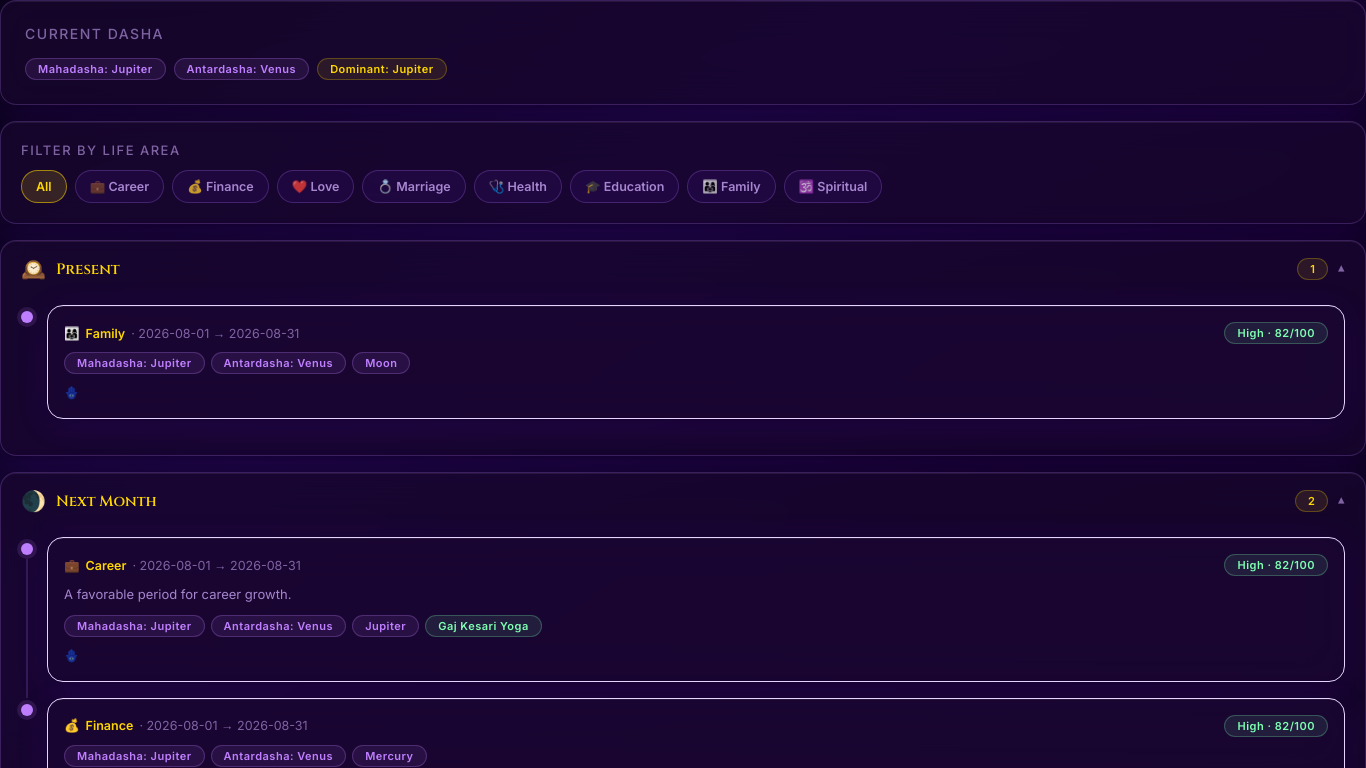
Test: TimelineTab — AI explanation generation (select an event) › shows an error state (via AiTimelineAIPanel) if the AI explanation request fails
Click the button "favorable period for career growth" at (696, 609), box x1=47 y1=537 x2=1345 y2=682
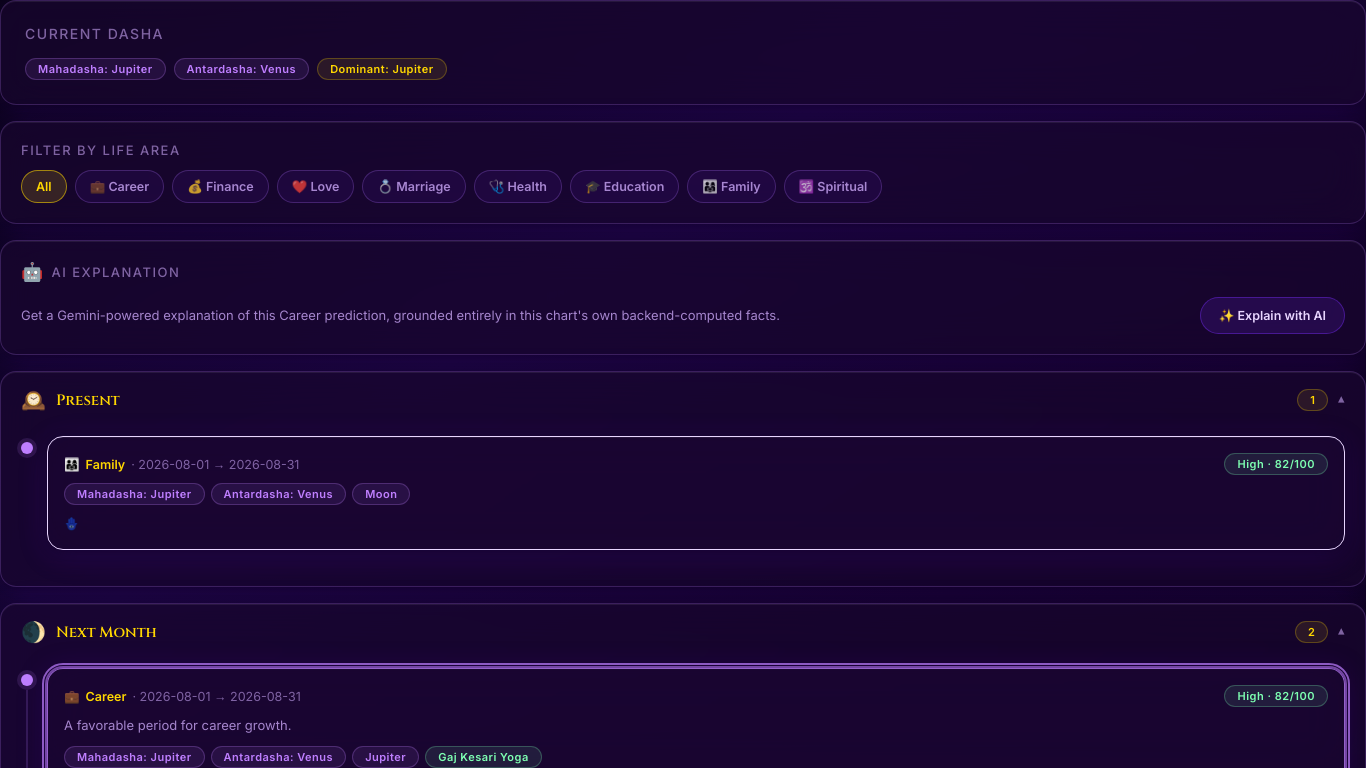
Click the button "✨ Explain with AI" at (1272, 316), box x1=1200 y1=297 x2=1345 y2=334
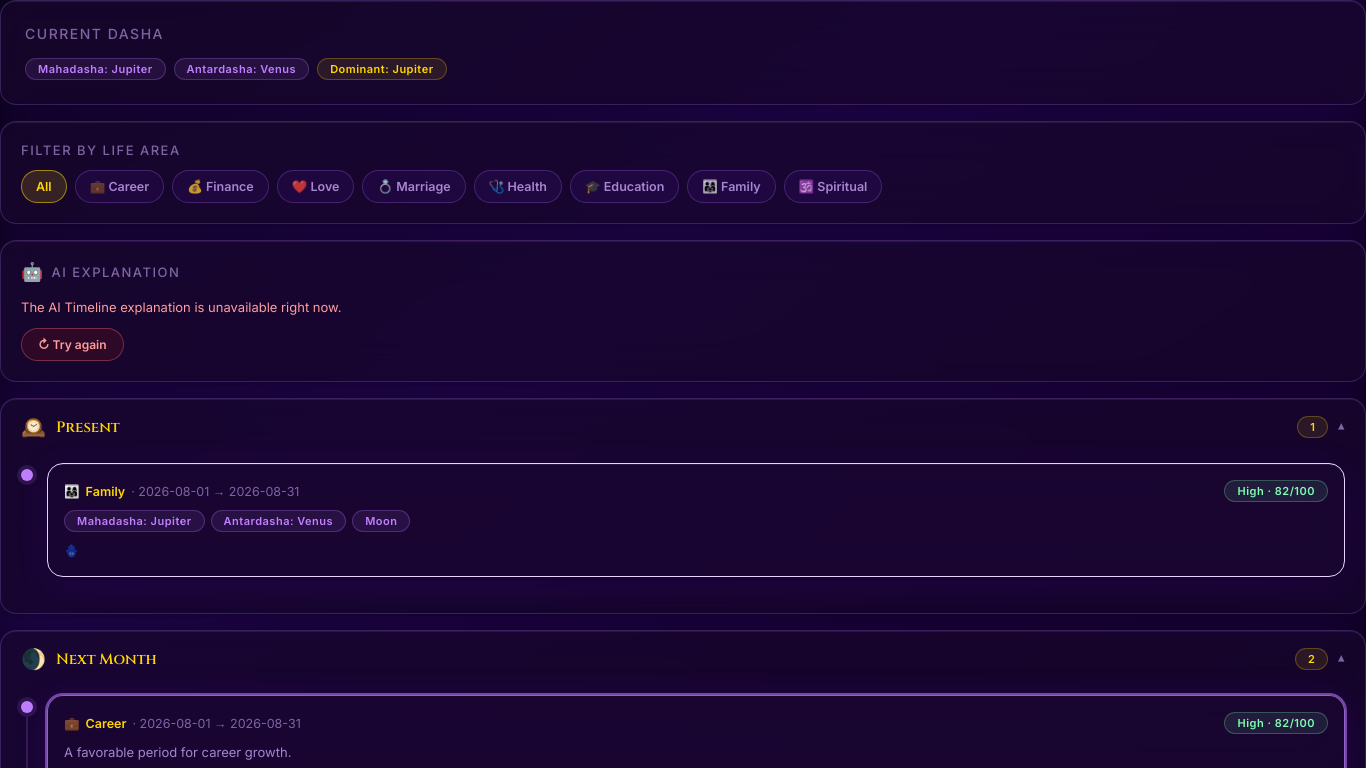
Expected: the message shows "unavailable", x1=21 y1=299 x2=342 y2=315
